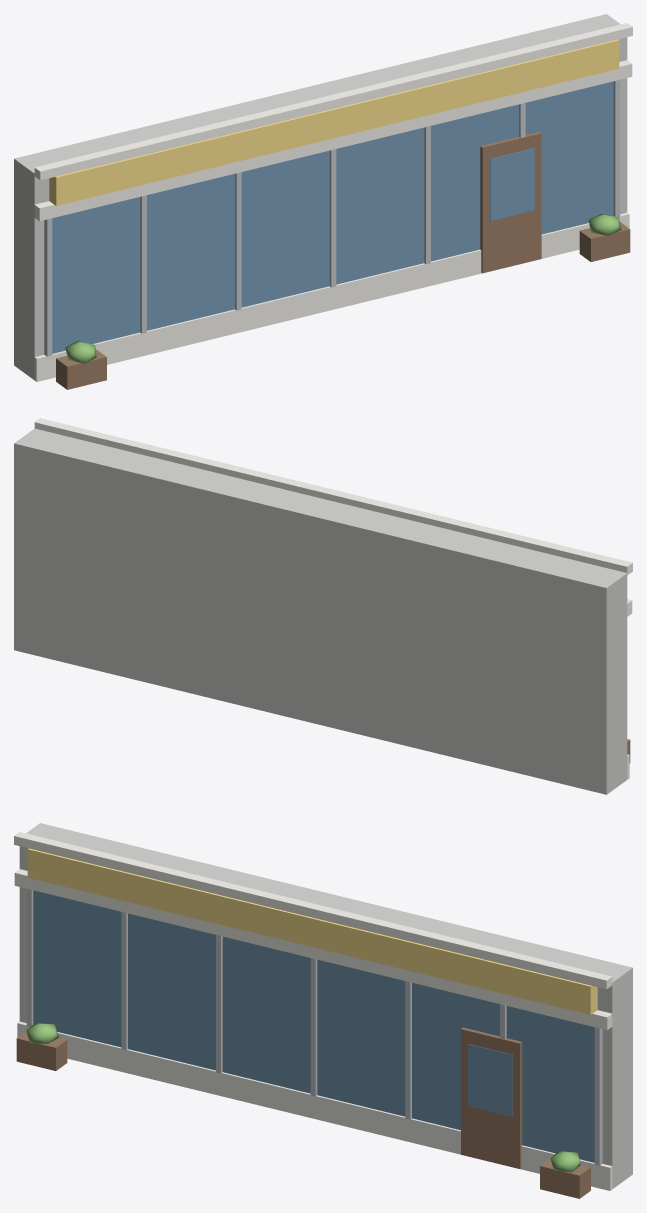
File: storefront_c.glb
3 views of the same model, one above another, from view 1: azimuth 30°, elevation 25°; view 2: azimuth 150°, elevation 25°; view 3: azimuth 330°, elevation 25° (orthographic).
Visible parts, largest first — view 1: storefront_c; view 2: storefront_c; view 3: storefront_c.
Boxes of the visible parts, bbox=[...] form: storefront_c: bbox=[14, 14, 632, 389]; storefront_c: bbox=[14, 418, 632, 794]; storefront_c: bbox=[14, 823, 632, 1198].
Bounding box in the file's own units: 12 × 4.12 × 1.43.
